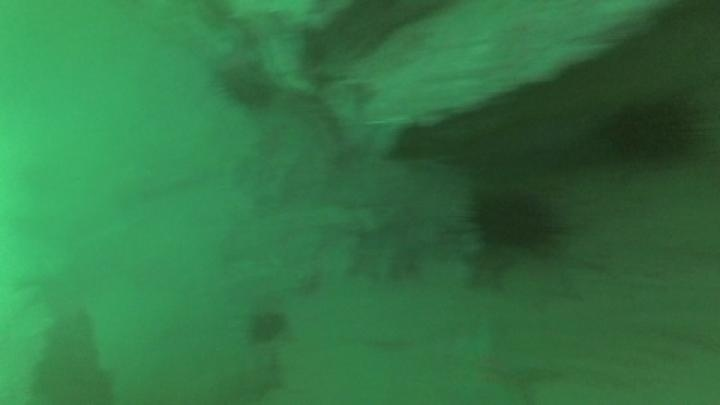echinus: (601, 90, 705, 170), (467, 184, 564, 257), (216, 57, 279, 112), (245, 307, 290, 347)
starfish: (440, 318, 555, 405), (458, 239, 520, 293), (226, 353, 285, 404)
